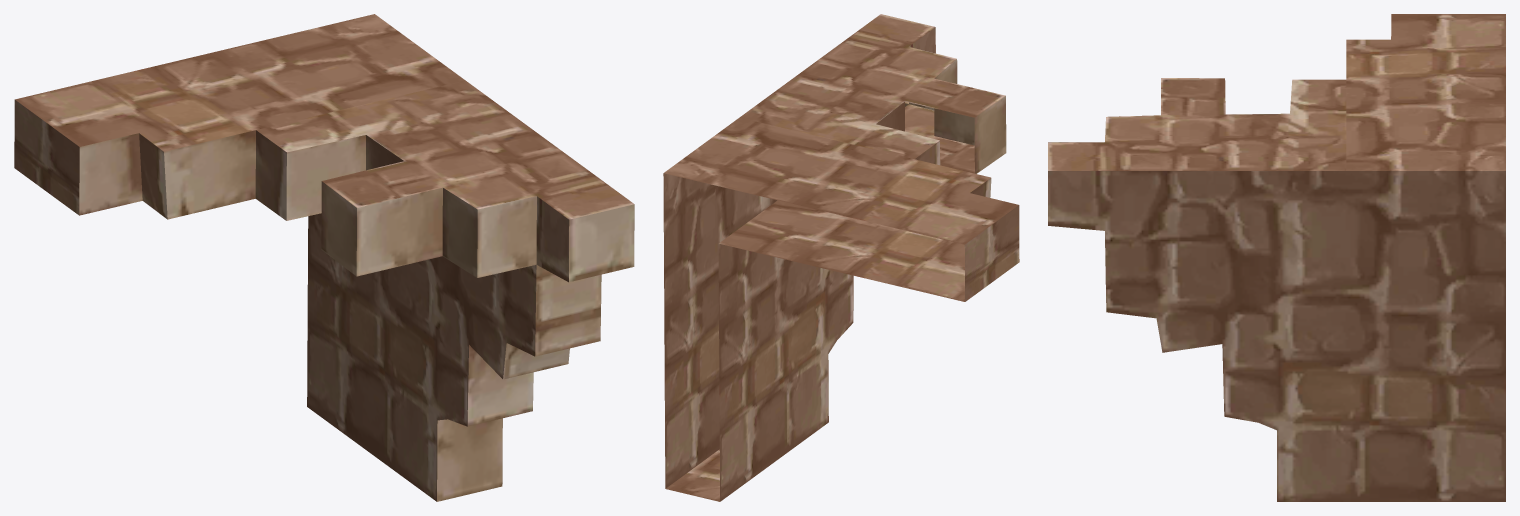
Rendered from caodi_weiqiang_05.fbx.
The picture shows the model from 3 angles, left to right: view 1: azimuth 30°, elevation 25°; view 2: azimuth 150°, elevation 25°; view 3: azimuth 270°, elevation 25°; orthographic projection. The views are drawn at different scales.
Parts seen in each view (by area): view 1: caodi_weiqiang_05; view 2: caodi_weiqiang_05; view 3: caodi_weiqiang_05.
Boxes of the visible parts, <box> form: caodi_weiqiang_05: <box>14,14,634,501</box>; caodi_weiqiang_05: <box>663,14,1019,501</box>; caodi_weiqiang_05: <box>1048,14,1505,501</box>.
Bounding box in the file's own units: 6.43 × 6.46 × 8.02.
